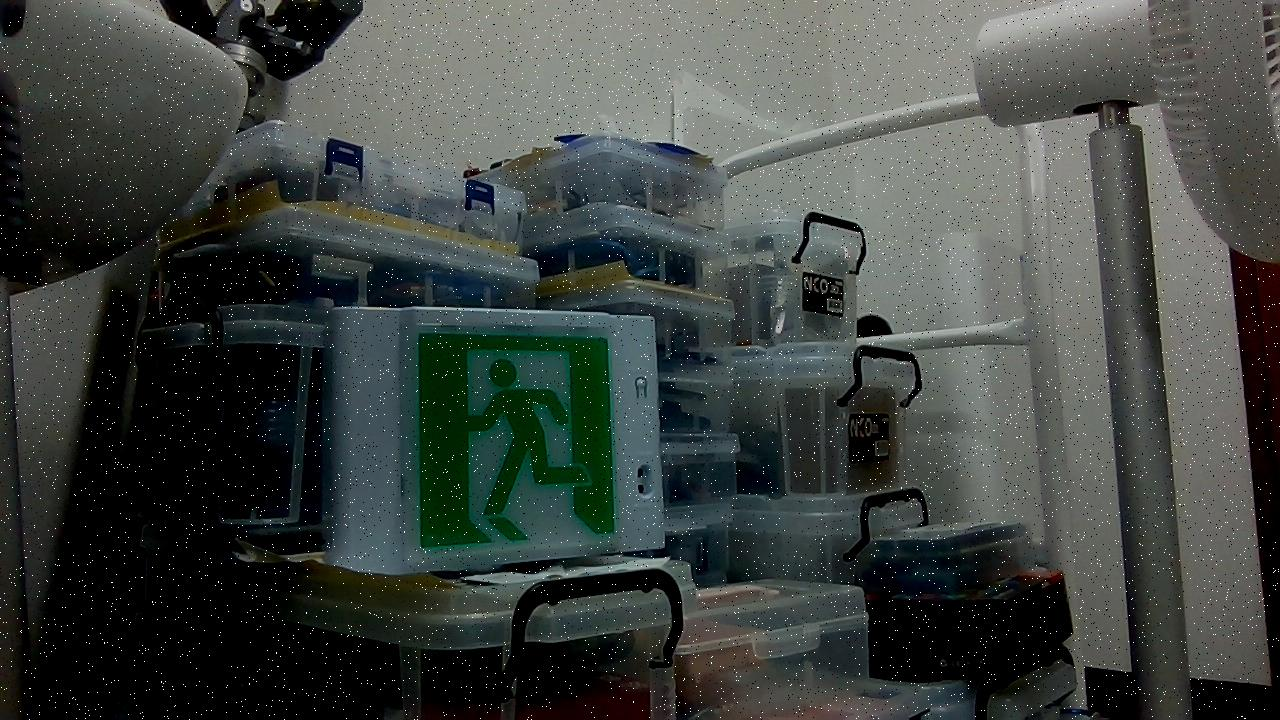emergency_exit: (324, 304, 666, 576), (397, 311, 660, 570), (413, 326, 618, 556), (800, 271, 845, 317)
